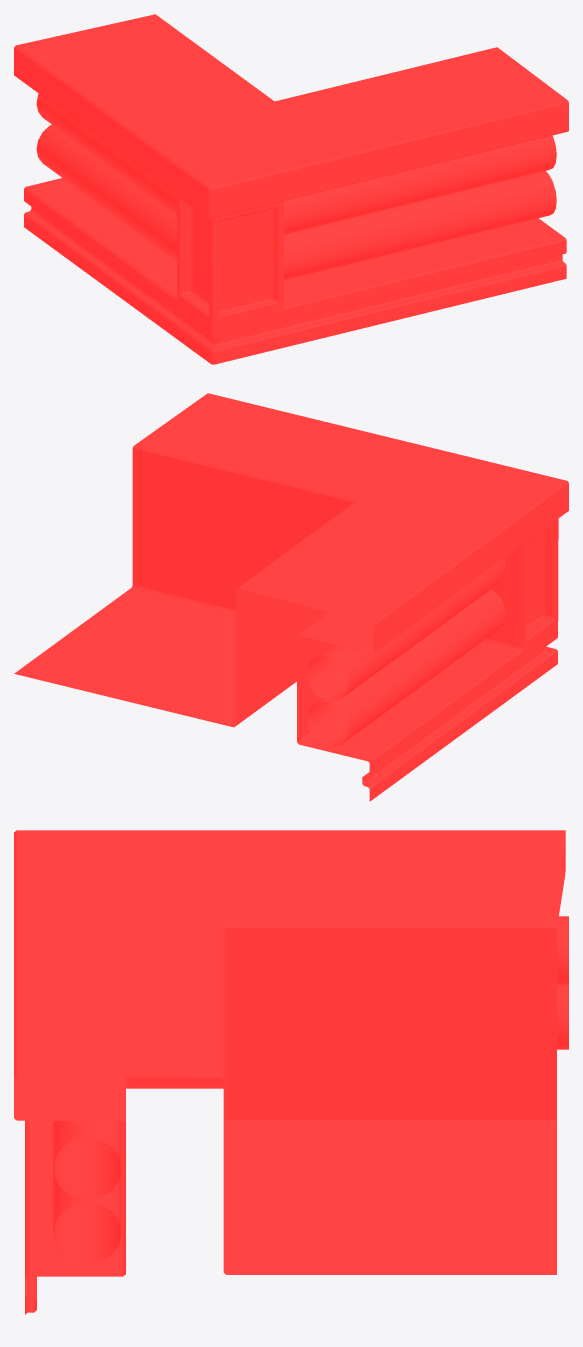
The model's file is Teto_Quina.fbx.
3 views of the same model, one above another, from view 1: azimuth 30°, elevation 25°; view 2: azimuth 150°, elevation 25°; view 3: azimuth 270°, elevation 25° (orthographic). The views are drawn at different scales.
Visible parts, largest first — view 1: Teto_Quina; view 2: Teto_Quina; view 3: Teto_Quina.
Boxes of the visible parts, x1=… form: Teto_Quina: x1=14, y1=14, x2=568, y2=364; Teto_Quina: x1=14, y1=393, x2=568, y2=801; Teto_Quina: x1=14, y1=830, x2=568, y2=1314.
Size of the model in its own units: 445 by 213 by 420.
